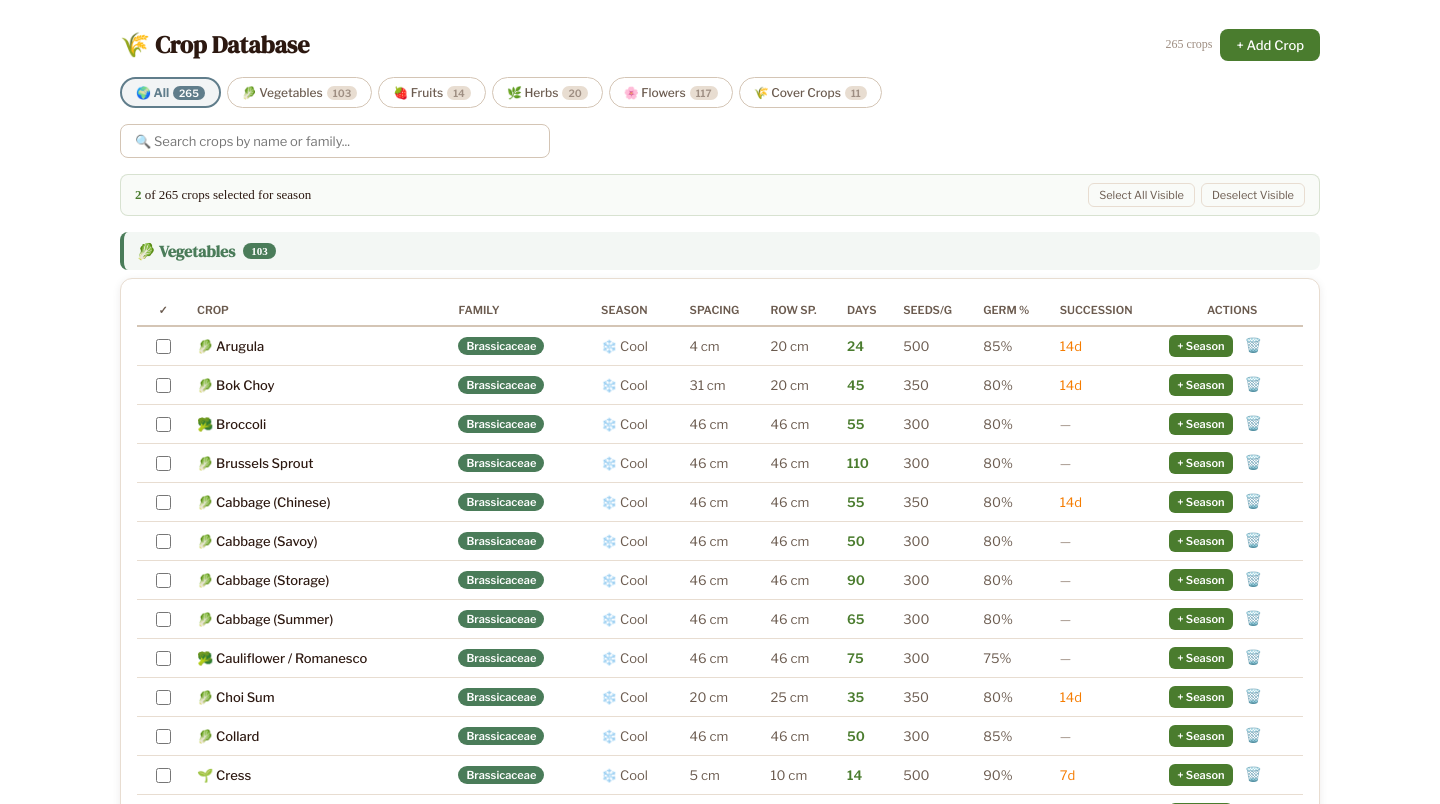
Test: CropsTab › opens add crop modal
Click the button "+ Add Crop". click: click(1270, 44)
box: top-left (1220, 28), bottom-right (1320, 60)
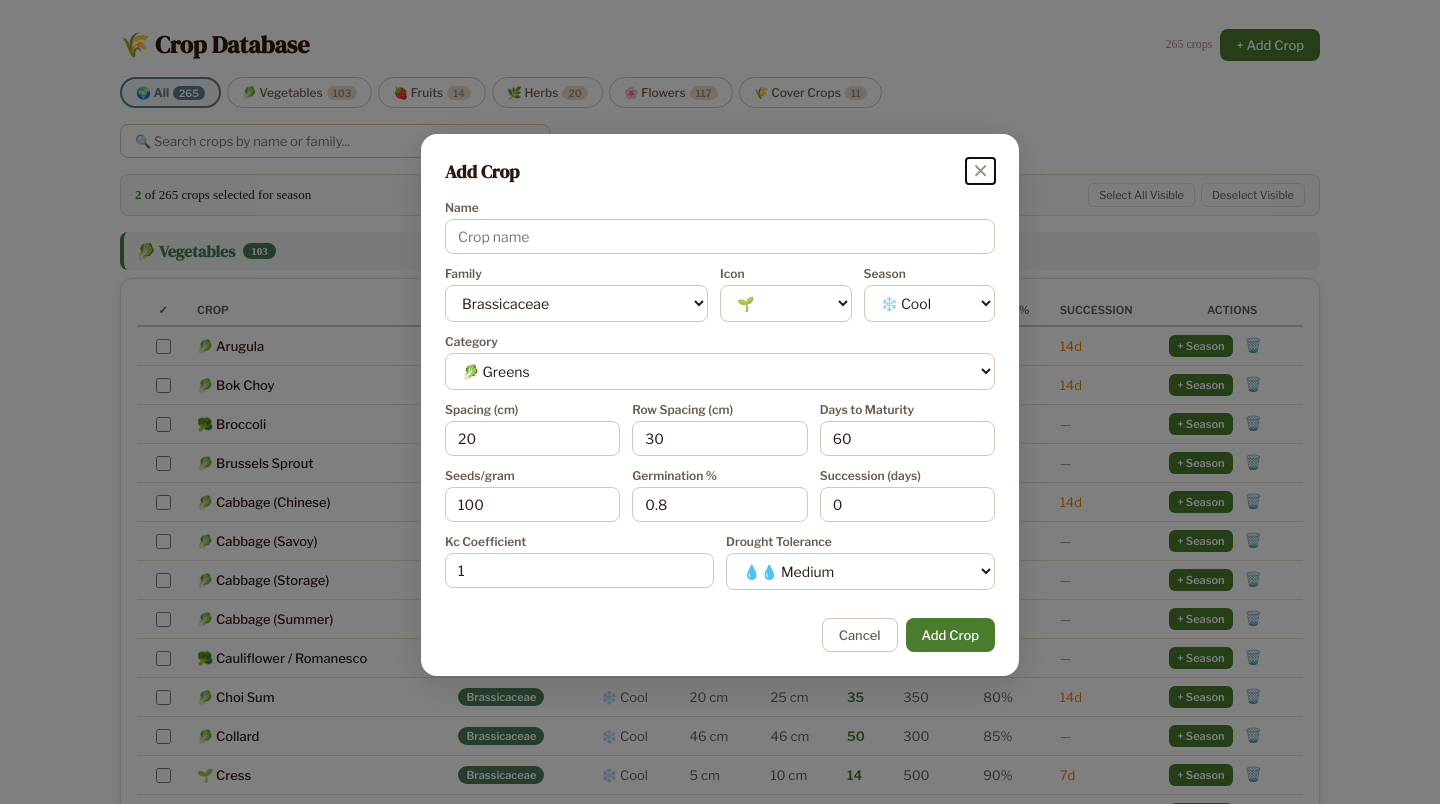
Expected: the dialog is shown, top-left (421, 134), bottom-right (1019, 676)
